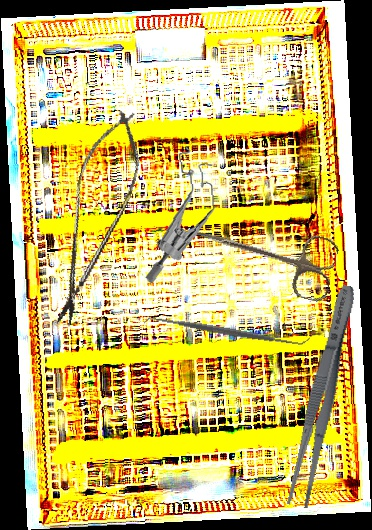Dressing Forceps: (282, 282, 363, 510)
Iris Scissors: (183, 204, 341, 304)
Micro Scissor: (38, 102, 154, 335)
Spatula Surgical: (143, 307, 311, 355)
Speculum: (134, 143, 223, 284)
